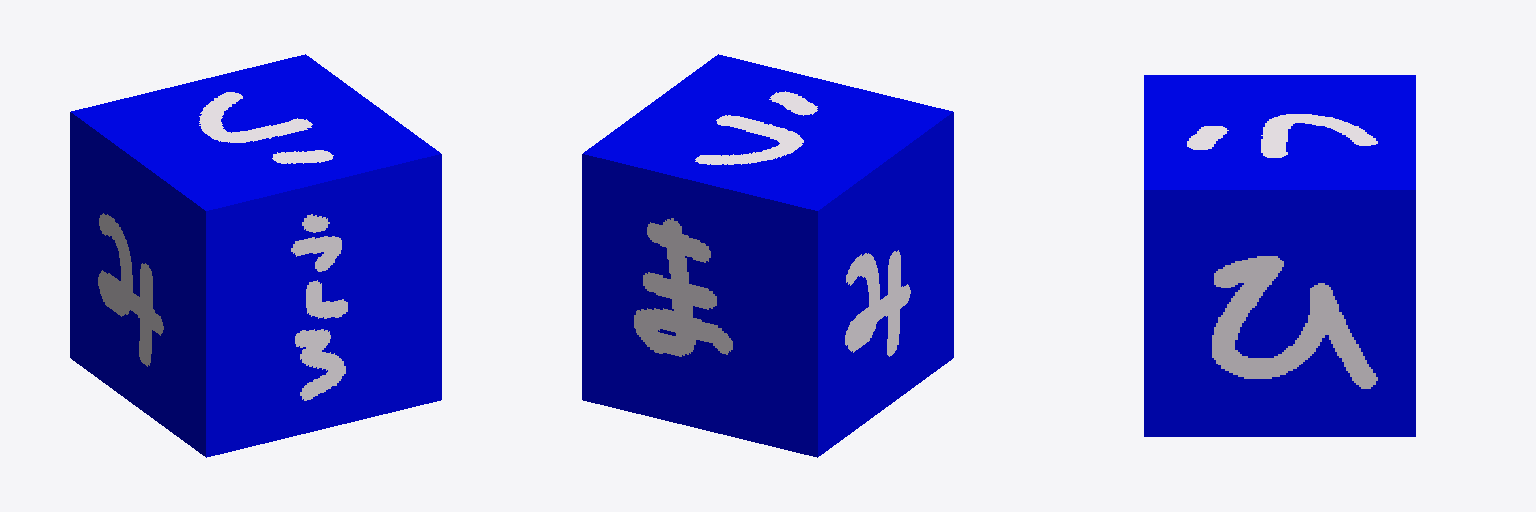
3 views of the same model, side by side, from view 1: azimuth 30°, elevation 25°; view 2: azimuth 150°, elevation 25°; view 3: azimuth 270°, elevation 25° (orthographic).
Parts seen in each view (by area): view 1: Cube; view 2: Cube; view 3: Cube.
Part boxes in pixels (left/top/right/bottom): Cube: left=70, top=54, right=441, bottom=457; Cube: left=582, top=54, right=953, bottom=457; Cube: left=1144, top=75, right=1415, bottom=436.
Bounding box in the file's own units: 2 × 2 × 2.
1 materials, 1 textured.